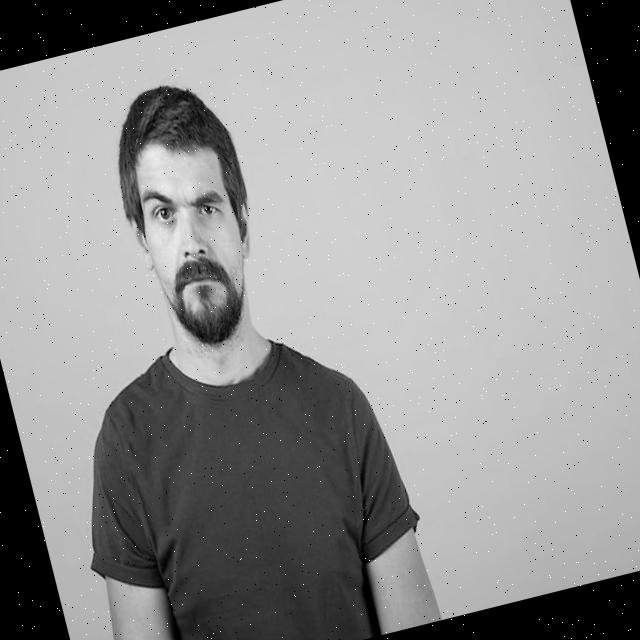Angry: (123, 130, 264, 350)
